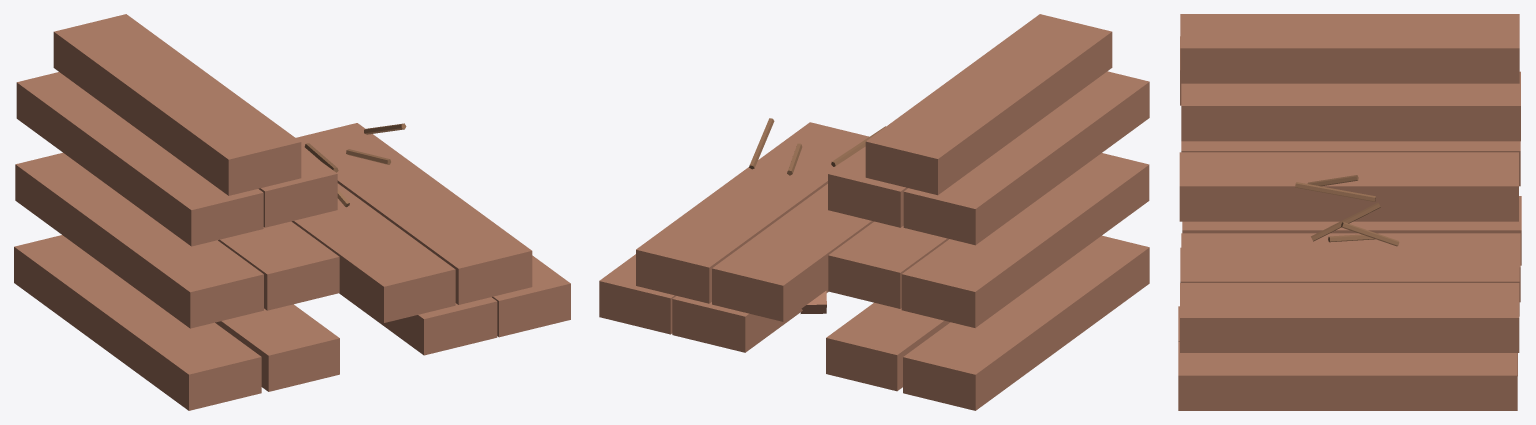
Rendered from wall_brick_dmg_c.glb.
3 renders of one model, left to right at view 1: azimuth 30°, elevation 25°; view 2: azimuth 150°, elevation 25°; view 3: azimuth 270°, elevation 25°, orthographic. The views are drawn at different scales.
Visible parts, largest first — view 1: WallBrickDamaged; view 2: WallBrickDamaged; view 3: WallBrickDamaged.
Part boxes in pixels (<box>): WallBrickDamaged: <box>14,14,570,410</box>; WallBrickDamaged: <box>599,14,1149,410</box>; WallBrickDamaged: <box>1178,14,1521,410</box>.
Size of the model in its own units: 4.82 by 3 by 3.89.
